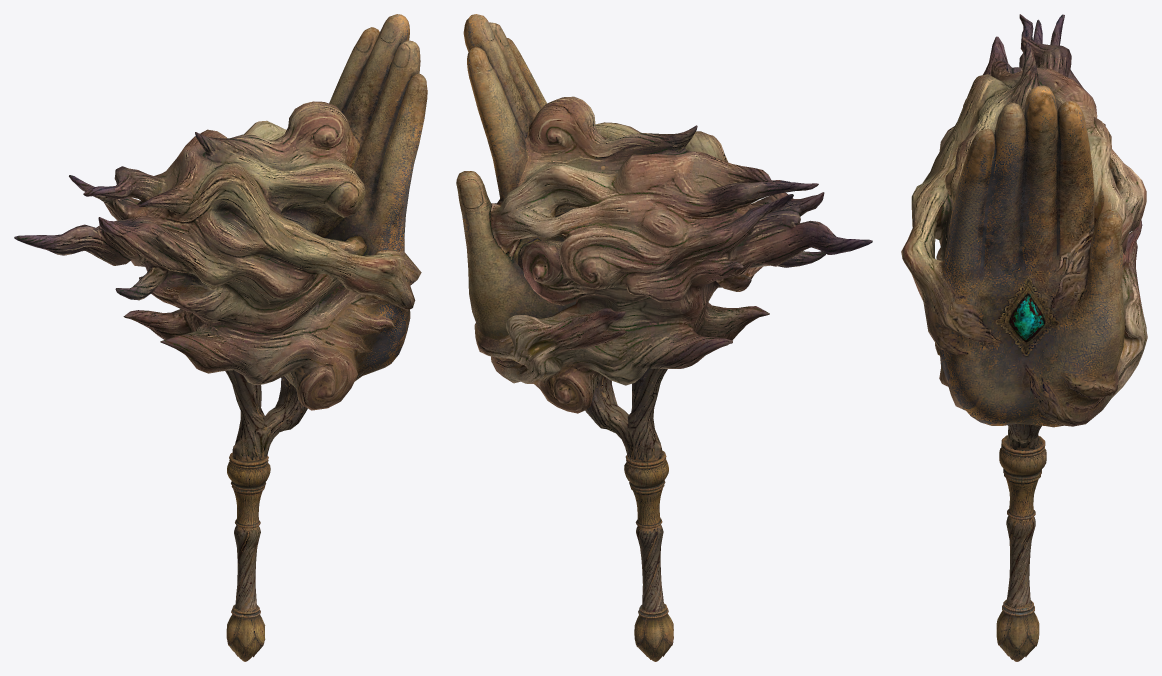
Rendered from ham016.obj.
The picture shows the model from 3 angles, left to right: view 1: azimuth 30°, elevation 25°; view 2: azimuth 150°, elevation 25°; view 3: azimuth 270°, elevation 25°; orthographic projection. The views are drawn at different scales.
Parts seen in each view (by area): view 1: ham016_000_LOD_1; view 2: ham016_000_LOD_1; view 3: ham016_000_LOD_1.
Boxes of the visible parts, x1,y1,x2,y2 form: ham016_000_LOD_1: [14, 14, 427, 661]; ham016_000_LOD_1: [456, 14, 872, 661]; ham016_000_LOD_1: [901, 14, 1147, 661].
Bounding box in the file's own units: 137 × 198 × 66.68.
